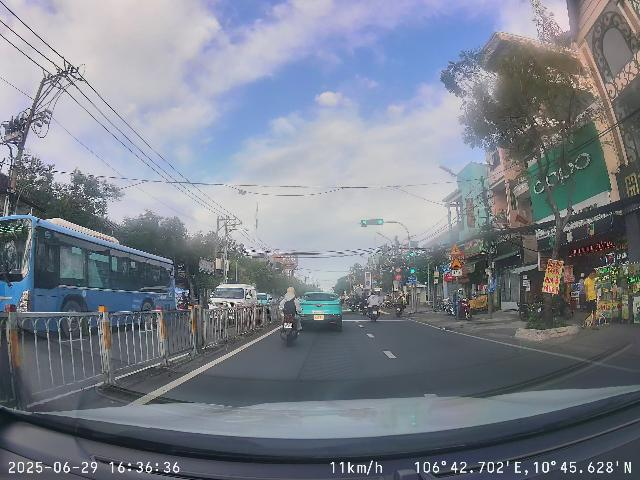221-duong-go-ghe: (450, 256, 463, 268)
224-duong-nguoi-di-bo-cat-ngang: (450, 243, 461, 255)
